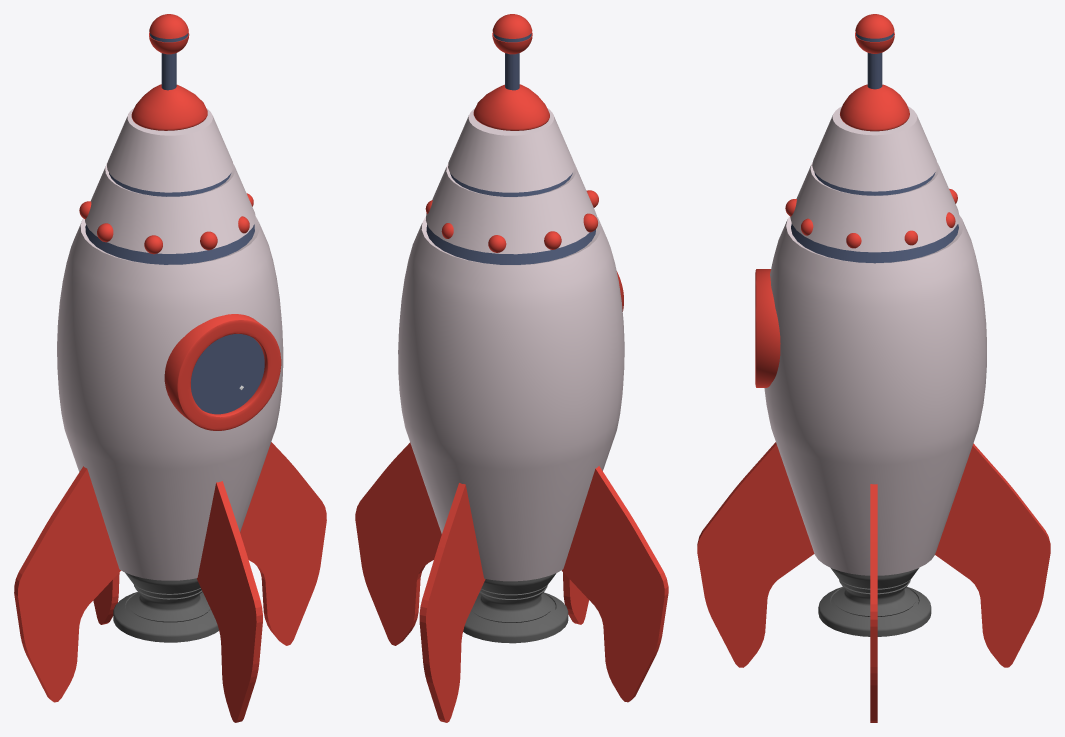
File: rocket-new.gltf
The picture shows the model from 3 angles, left to right: view 1: azimuth 30°, elevation 25°; view 2: azimuth 150°, elevation 25°; view 3: azimuth 270°, elevation 25°; orthographic projection.
Visible parts, largest first — view 1: Cylinder, Plane.002, Plane, Cylinder.002, Plane.003, Cylinder.003, Sphere, Sphere.001, Sphere.002, Plane.001, Cylinder.001; view 2: Cylinder, Plane.002, Plane, Plane.001, Cylinder.003, Sphere, Sphere.001, Sphere.002, Plane.003, Cylinder.001; view 3: Cylinder, Plane.003, Plane.001, Cylinder.003, Cylinder.002, Sphere, Plane, Sphere.001, Sphere.002, Cylinder.001.
Boxes of the visible parts, x1=… form: Cylinder: x1=57, y1=108, x2=283, y2=580; Plane.002: x1=14, y1=466, x2=120, y2=702; Plane: x1=240, y1=442, x2=326, y2=645; Cylinder.002: x1=164, y1=314, x2=281, y2=430; Plane.003: x1=196, y1=481, x2=262, y2=722; Cylinder.003: x1=113, y1=572, x2=218, y2=642; Sphere: x1=131, y1=84, x2=207, y2=130; Sphere.001: x1=149, y1=14, x2=189, y2=54; Sphere.002: x1=79, y1=193, x2=253, y2=254; Plane.001: x1=93, y1=572, x2=119, y2=624; Cylinder.001: x1=161, y1=53, x2=176, y2=90; Cylinder: x1=398, y1=108, x2=624, y2=581; Plane.002: x1=562, y1=466, x2=668, y2=702; Plane: x1=355, y1=442, x2=441, y2=645; Plane.001: x1=419, y1=483, x2=485, y2=722; Cylinder.003: x1=463, y1=573, x2=568, y2=643; Sphere: x1=473, y1=84, x2=549, y2=130; Sphere.001: x1=492, y1=14, x2=532, y2=54; Sphere.002: x1=425, y1=190, x2=598, y2=252; Plane.003: x1=563, y1=572, x2=588, y2=624; Cylinder.001: x1=505, y1=53, x2=519, y2=90; Cylinder: x1=764, y1=106, x2=986, y2=575; Plane.003: x1=697, y1=442, x2=814, y2=667; Plane.001: x1=935, y1=443, x2=1050, y2=667; Cylinder.003: x1=818, y1=568, x2=931, y2=636; Cylinder.002: x1=755, y1=269, x2=780, y2=387; Sphere: x1=840, y1=84, x2=909, y2=131; Plane: x1=870, y1=484, x2=877, y2=722; Sphere.001: x1=855, y1=14, x2=894, y2=53; Sphere.002: x1=785, y1=188, x2=957, y2=248; Cylinder.001: x1=867, y1=53, x2=882, y2=89.
Size of the model in its own units: 0.3741 by 0.7597 by 0.3741.
